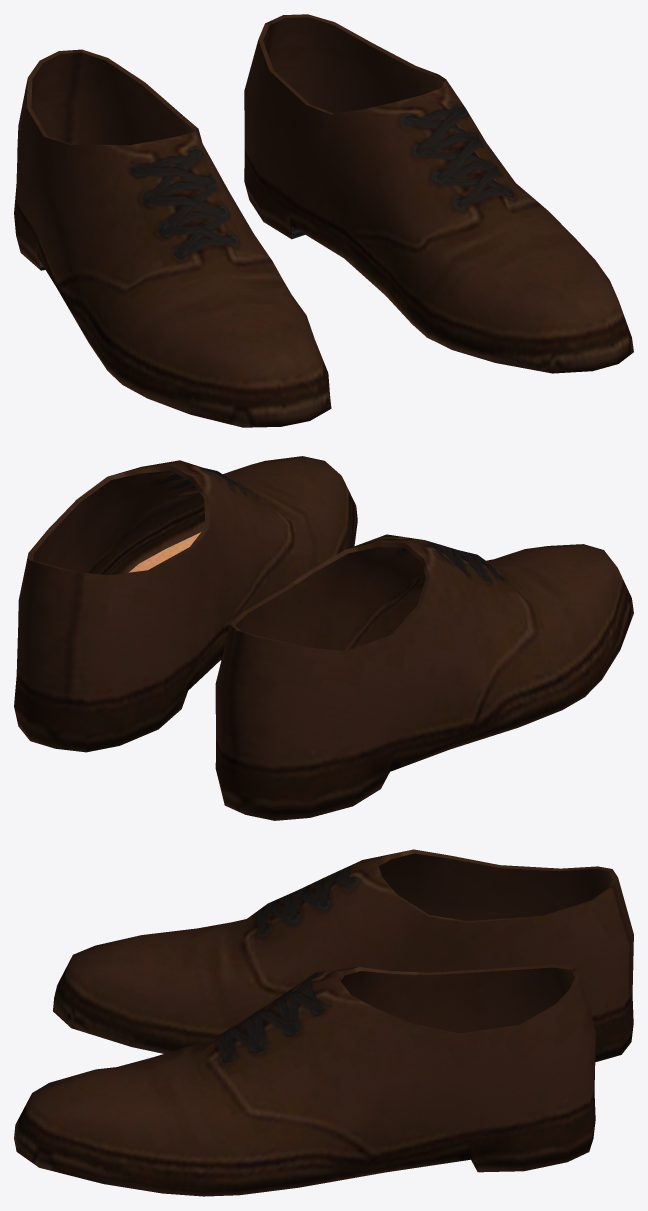
Rendered from Shoes.FBX.
3 renders of one model, top to bottom at view 1: azimuth 30°, elevation 25°; view 2: azimuth 150°, elevation 25°; view 3: azimuth 270°, elevation 25°, orthographic. The views are drawn at different scales.
Parts seen in each view (by area): view 1: left shoe, right shoe; view 2: right shoe, left shoe; view 3: left shoe, right shoe.
Part boxes in pixels (<box>): left shoe: <box>244,14,633,373</box>; right shoe: <box>14,49,331,427</box>; right shoe: <box>215,534,633,820</box>; left shoe: <box>14,456,357,752</box>; left shoe: <box>14,965,595,1196</box>; right shoe: <box>53,849,633,1062</box>.
Bounding box in the file's own units: 24.32 × 29.16 × 8.87.
1 material, 1 textured.
